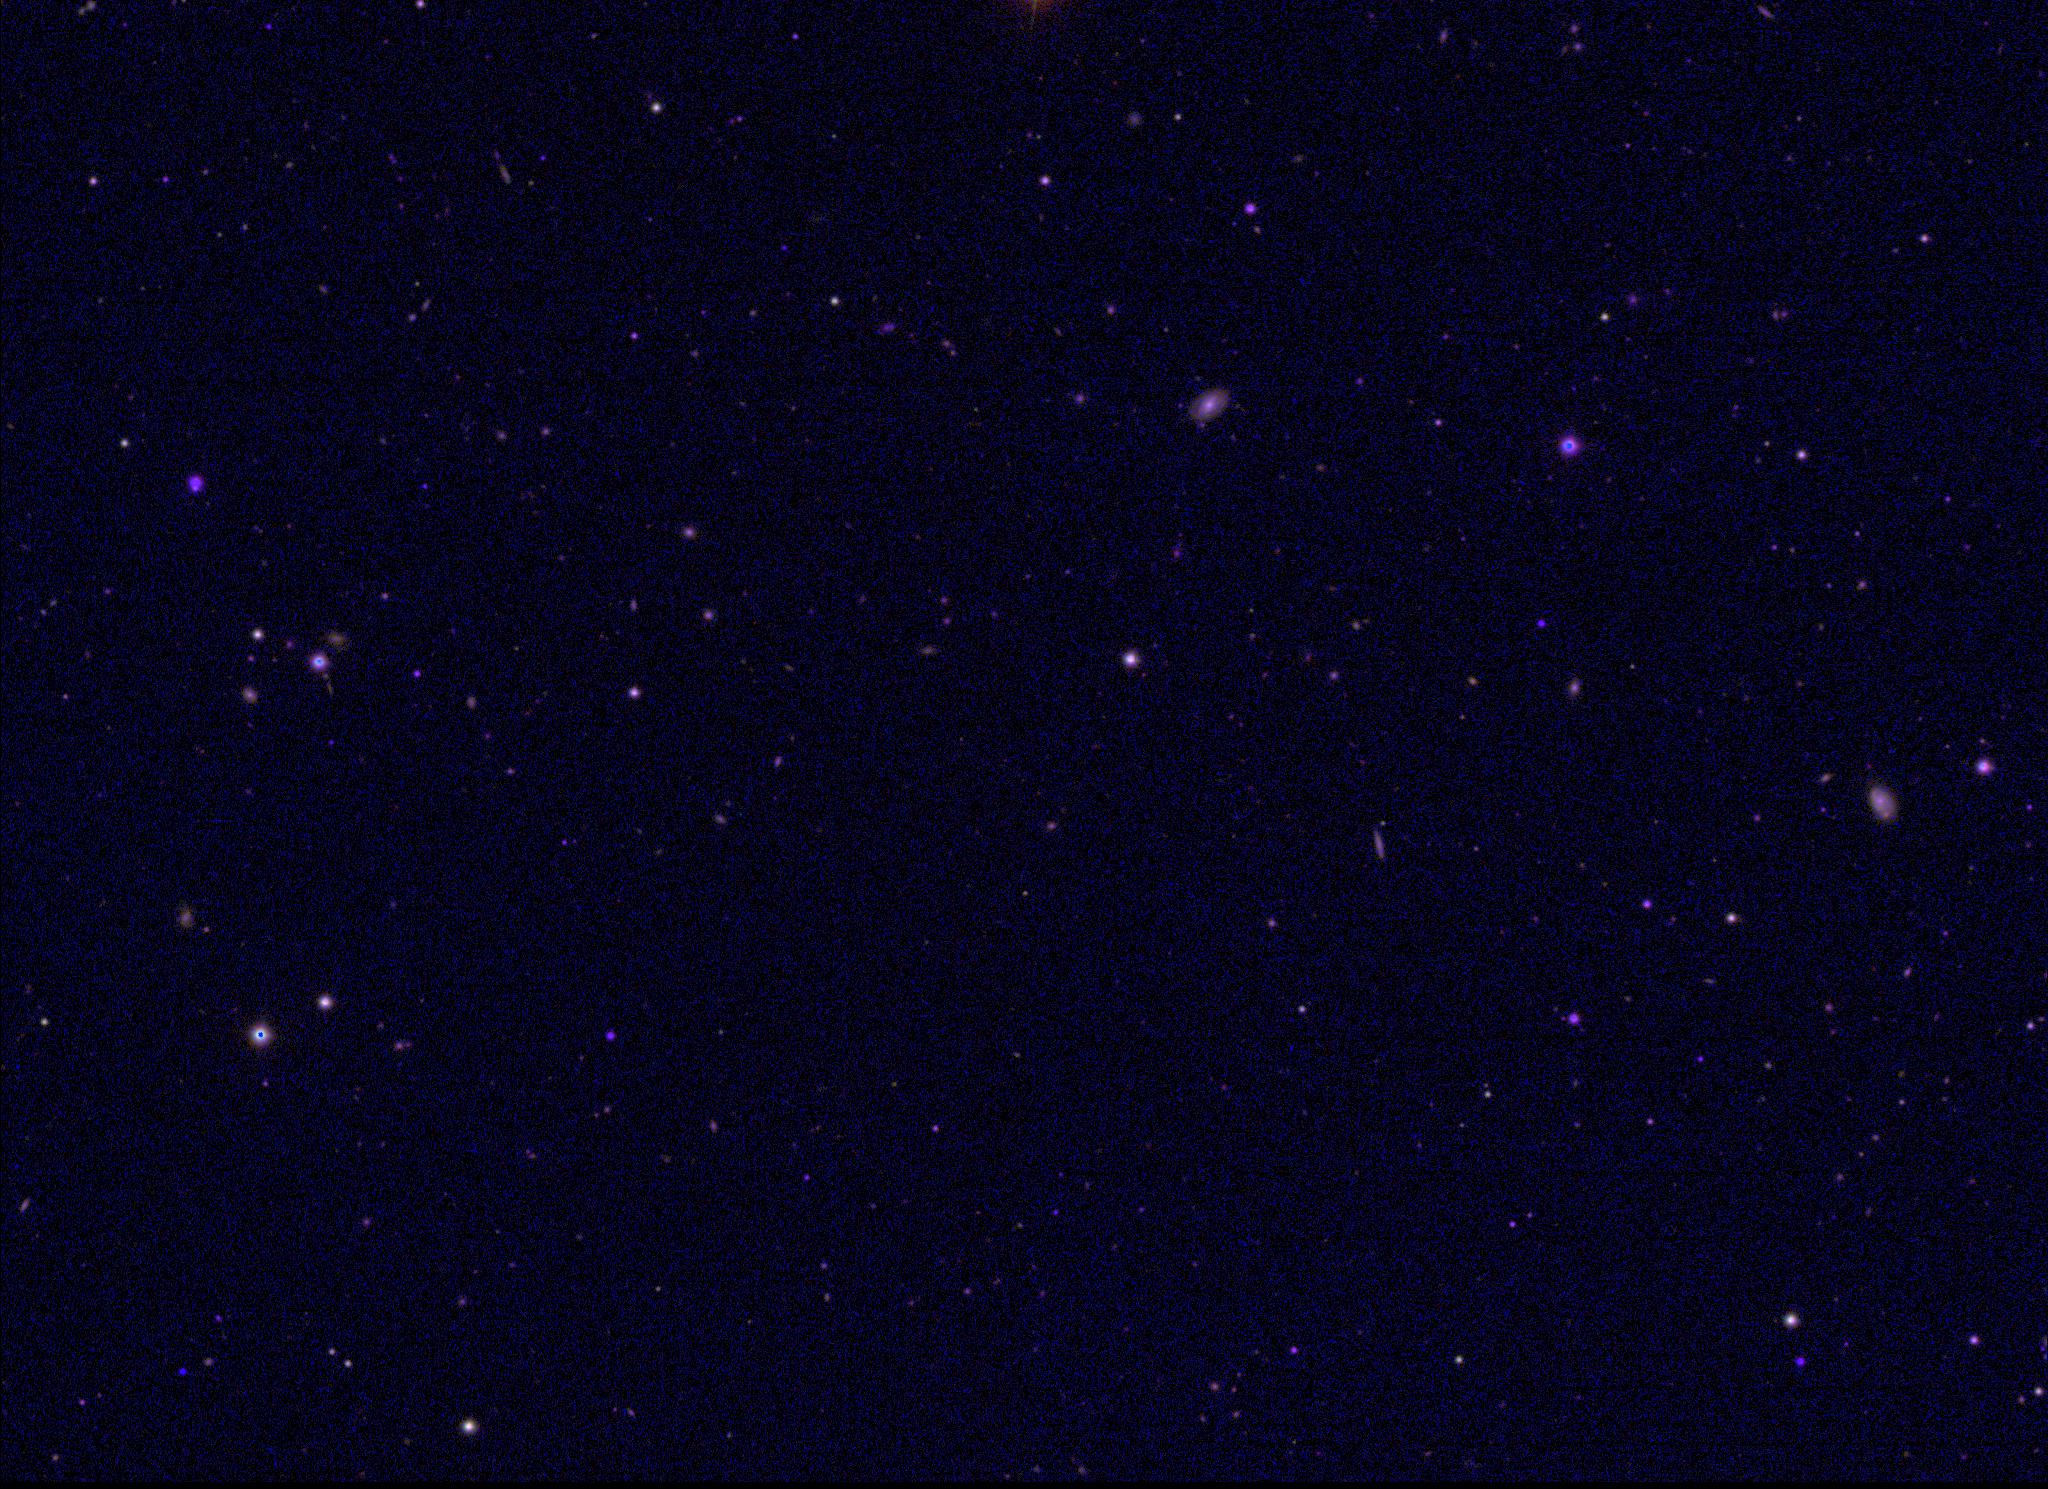L: (176, 1365, 189, 1379)
